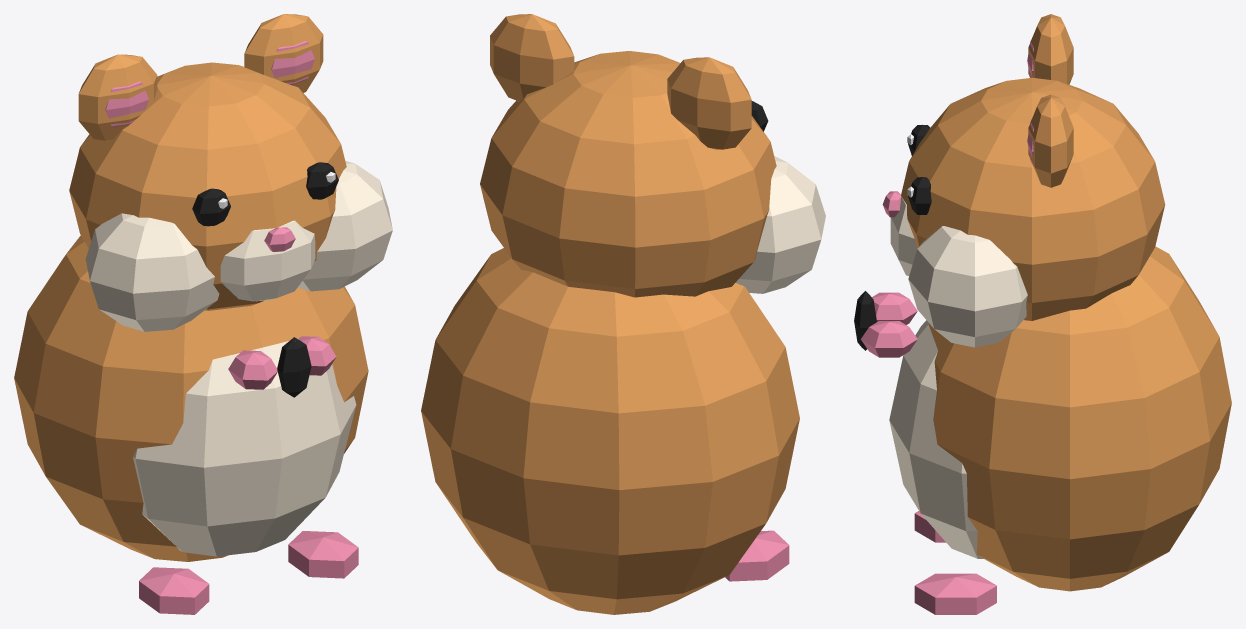
The model's file is hamster.glb.
The picture shows the model from 3 angles, left to right: view 1: azimuth 30°, elevation 25°; view 2: azimuth 150°, elevation 25°; view 3: azimuth 270°, elevation 25°; orthographic projection. The views are drawn at different scales.
Visible parts, largest first — view 1: hamster; view 2: hamster; view 3: hamster.
Boxes of the visible parts, box(x1,y1,x2,y2) form: hamster: box(14, 14, 392, 614); hamster: box(421, 14, 825, 614); hamster: box(854, 14, 1231, 614).
Bounding box in the file's own units: 0.38 × 0.6 × 0.397.
